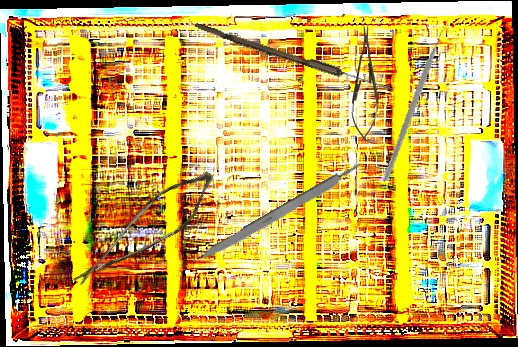Chopper: (357, 26, 482, 182)
Micro Scissor: (72, 150, 222, 314)
Needle Holder: (350, 25, 381, 142)
Scalpel Handle: (194, 160, 366, 267)
Surgical Spoon: (193, 22, 395, 94)
